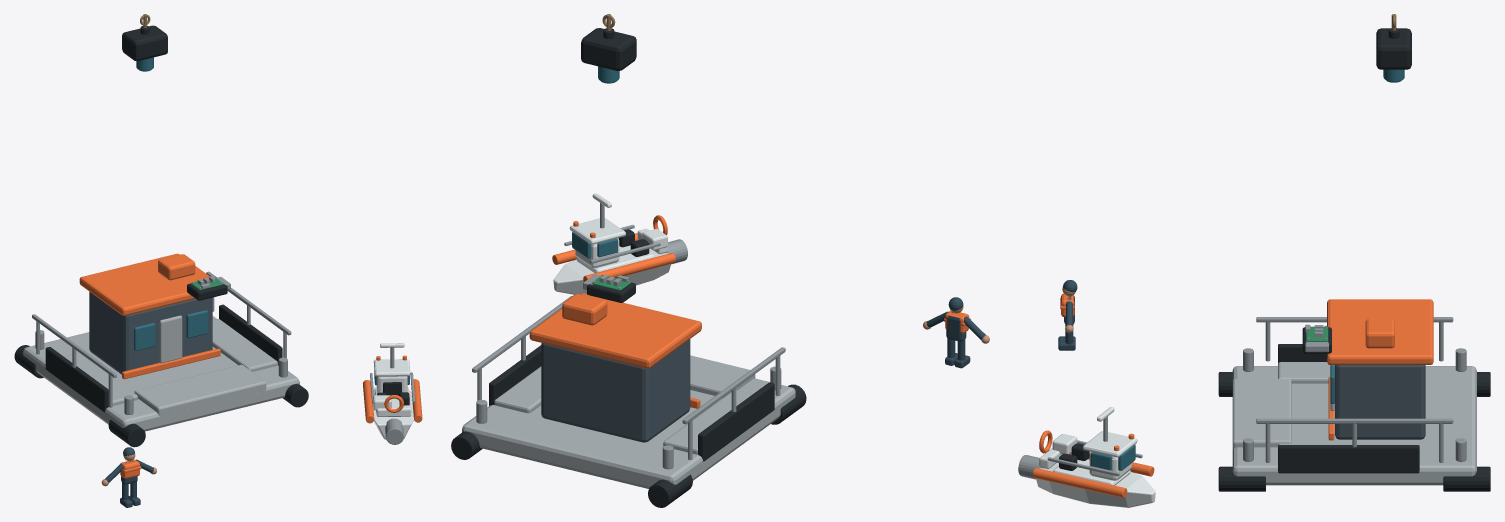
File: RescueSimulation_Blockout_All.fbx
The picture shows the model from 3 angles, left to right: view 1: azimuth 30°, elevation 25°; view 2: azimuth 150°, elevation 25°; view 3: azimuth 270°, elevation 25°; orthographic projection. The views are drawn at different scales.
Parts seen in each view (by area): view 1: BaseStation_Platform, BaseStation_OperationsCabin, BaseStation_Roof, BaseStation_FrontApron, BaseStation_StarboardDock, BaseStation_PortFenderOuter, BaseStation, OverheadCamera_Housing, BaseStation_StarboardFenderOuter, BaseStation_Door, BaseStation_PortDock, BaseStation_SafetyStripe (+5 smaller); view 2: BaseStation_Platform, BaseStation_OperationsCabin, BaseStation_Roof, BaseStation_PortFenderOuter, OverheadCamera_Housing, BaseStation_FrontApron, RescueBoat_Hull, BaseStation_PortDock, BaseStation_StarboardDock, BaseStation_StarboardFenderOuter, BaseStation_RoofVent, RescueBoat_CabinRoof (+7 smaller); view 3: BaseStation_Platform, BaseStation_OperationsCabin, BaseStation_Roof, BaseStation_StarboardFenderOuter, BaseStation_FrontApron, RescueBoat_Hull, OverheadCamera_Housing, BaseStation, BaseStation_RailTop_R, BaseStation_PortDock, RescueBoat_StarboardCollar, BaseStation_Float_+0.285_-0.285 (+6 smaller).
Boxes of the visible parts, left/top/right/bottom form: BaseStation_Platform: left=23, top=316, right=299, bottom=431; BaseStation_OperationsCabin: left=89, top=292, right=212, bottom=374; BaseStation_Roof: left=79, top=253, right=209, bottom=315; BaseStation_FrontApron: left=134, top=364, right=266, bottom=416; BaseStation_StarboardDock: left=212, top=319, right=277, bottom=371; BaseStation_PortFenderOuter: left=45, top=347, right=108, bottom=412; BaseStation: left=35, top=310, right=287, bottom=414; OverheadCamera_Housing: left=122, top=25, right=167, bottom=61; BaseStation_StarboardFenderOuter: left=219, top=304, right=282, bottom=365; BaseStation_Door: left=159, top=315, right=182, bottom=363; BaseStation_PortDock: left=64, top=353, right=137, bottom=405; BaseStation_SafetyStripe: left=122, top=348, right=220, bottom=379; BaseStation_Platform: left=462, top=378, right=795, bottom=488; BaseStation_OperationsCabin: left=541, top=339, right=690, bottom=442; BaseStation_Roof: left=529, top=293, right=701, bottom=368; BaseStation_PortFenderOuter: left=698, top=382, right=774, bottom=461; OverheadCamera_Housing: left=581, top=28, right=636, bottom=70; BaseStation_FrontApron: left=690, top=355, right=755, bottom=397; RescueBoat_Hull: left=553, top=248, right=671, bottom=294; BaseStation_PortDock: left=663, top=390, right=752, bottom=454; BaseStation_StarboardDock: left=494, top=366, right=541, bottom=413; BaseStation_StarboardFenderOuter: left=489, top=345, right=541, bottom=405; BaseStation_RoofVent: left=562, top=294, right=607, bottom=325; RescueBoat_CabinRoof: left=569, top=218, right=625, bottom=244; BaseStation_Platform: left=1232, top=366, right=1476, bottom=485; BaseStation_OperationsCabin: left=1335, top=365, right=1425, bottom=439; BaseStation_Roof: left=1327, top=299, right=1433, bottom=364; BaseStation_StarboardFenderOuter: left=1278, top=445, right=1419, bottom=473; BaseStation_FrontApron: left=1232, top=379, right=1291, bottom=449; RescueBoat_Hull: left=1036, top=462, right=1155, bottom=507; OverheadCamera_Housing: left=1376, top=28, right=1411, bottom=69; BaseStation: left=1243, top=348, right=1466, bottom=461; BaseStation_RailTop_R: left=1256, top=418, right=1453, bottom=423; BaseStation_PortDock: left=1278, top=362, right=1330, bottom=383; RescueBoat_StarboardCollar: left=1032, top=468, right=1127, bottom=497; BaseStation_Float_+0.285_-0.285: left=1218, top=466, right=1265, bottom=491.
Size of the model in its own units: 1.19 by 1.2 by 1.2.
